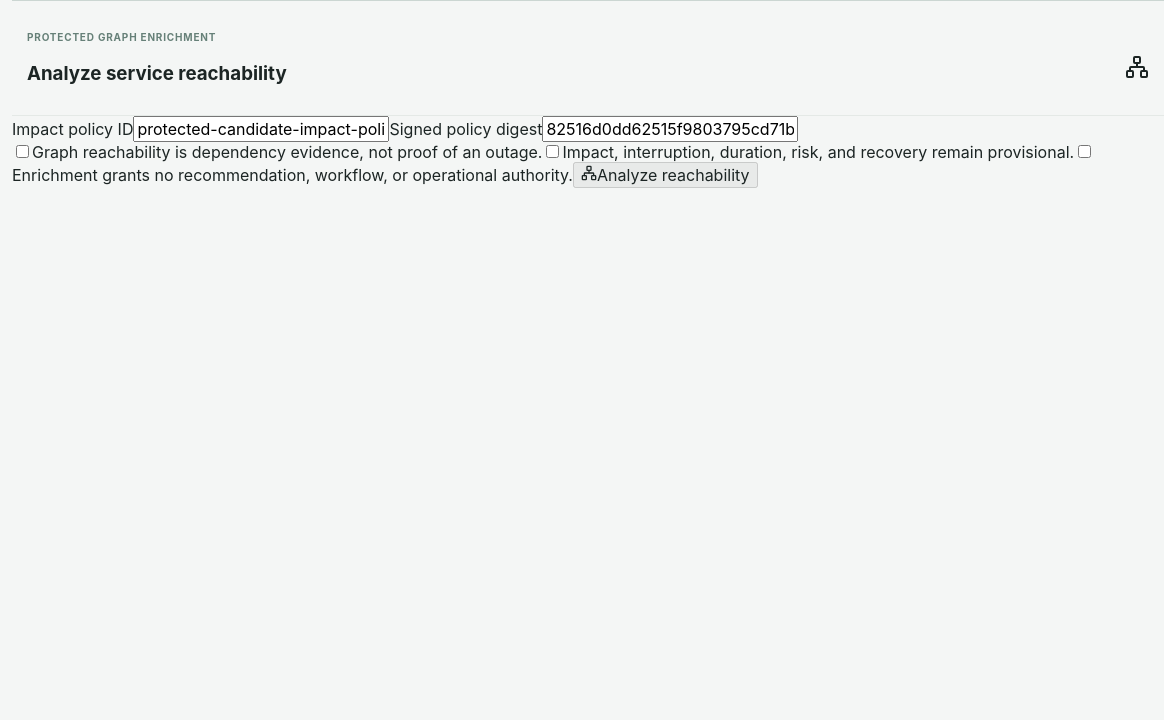
Test: ProtectedCandidateImpactPanel › returns only a minimized graph-impact manifest
The image size is (1164, 720).
Expected: the button "Analyze reachability" is disabled, x1=573 y1=162 x2=758 y2=188
Click the checkbox labelled "Graph reachability is dependency evidence, not proof of an outage.": (22, 152) x1=16 y1=145 x2=29 y2=158
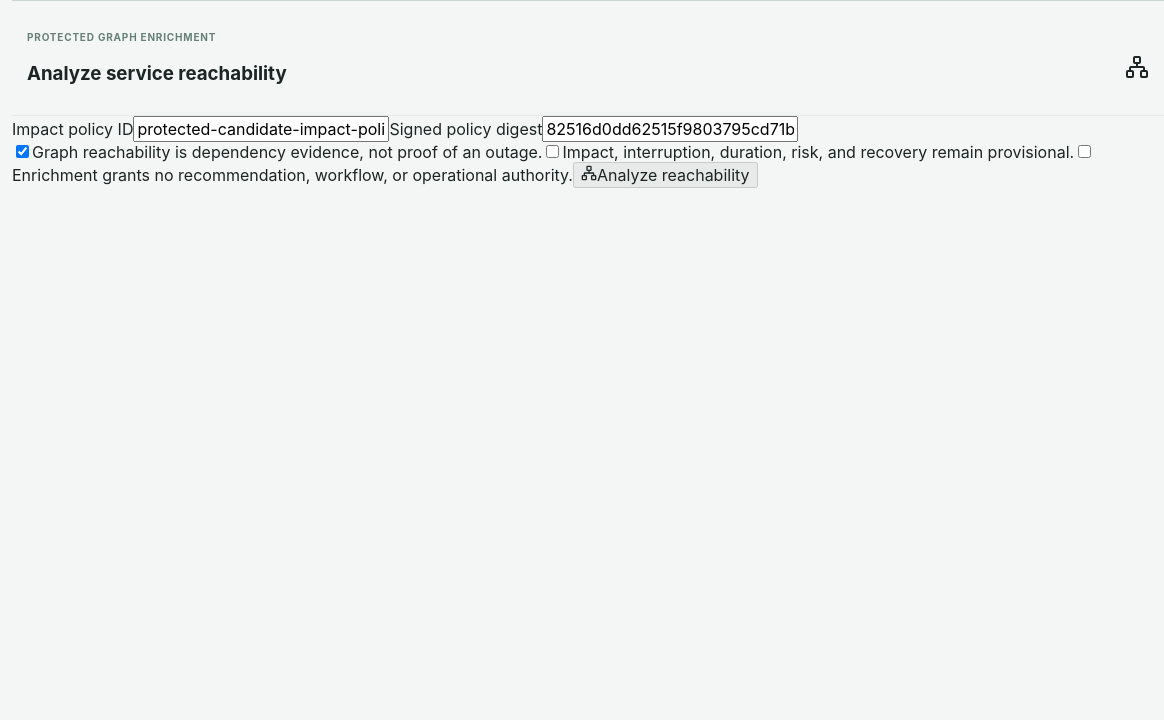
Click the checkbox labelled "Impact, interruption, duration, risk, and recovery remain provisional.": (553, 152) x1=546 y1=145 x2=559 y2=158
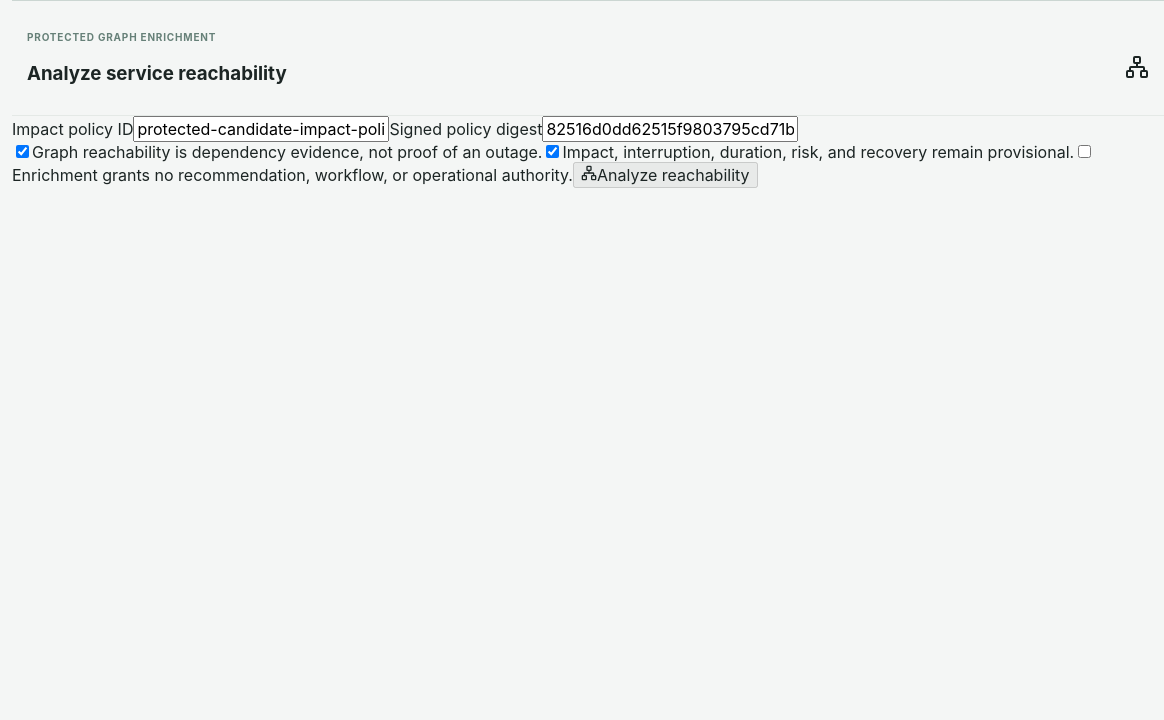
Click the checkbox labelled "Enrichment grants no recommendation, workflow, or operational authority.": (1085, 152) x1=1078 y1=145 x2=1091 y2=158
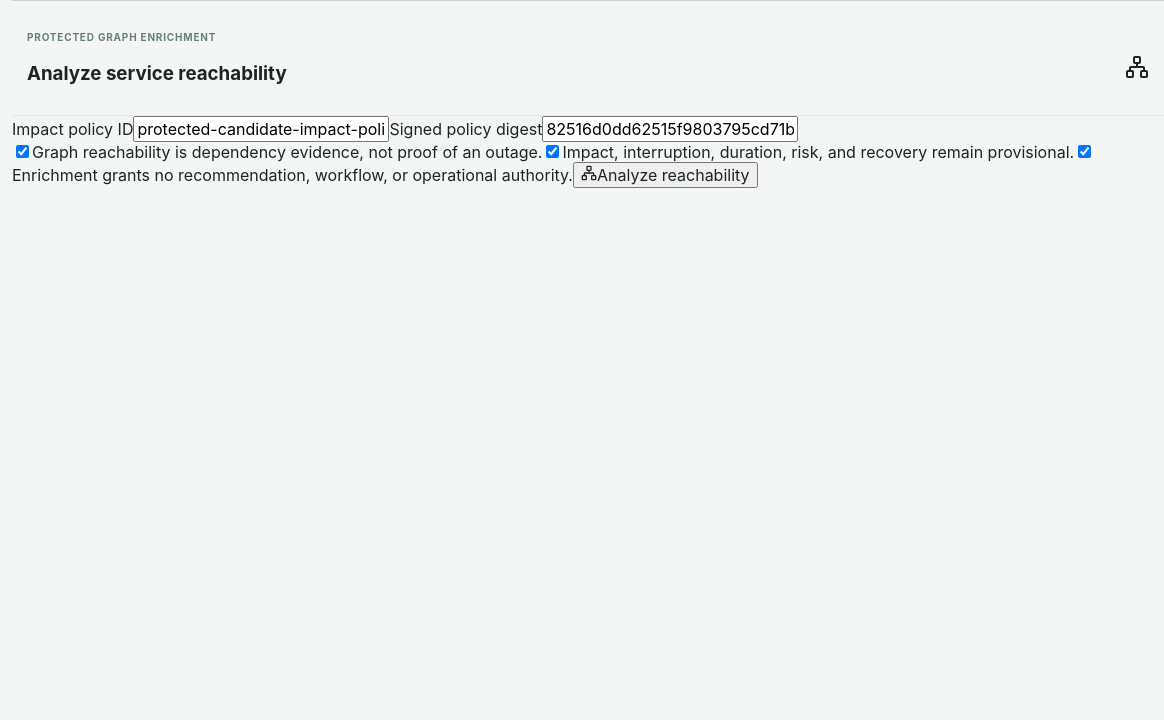
Expected: the button "Analyze reachability" is enabled
Click the button "Analyze reachability": (665, 175) x1=573 y1=162 x2=758 y2=188
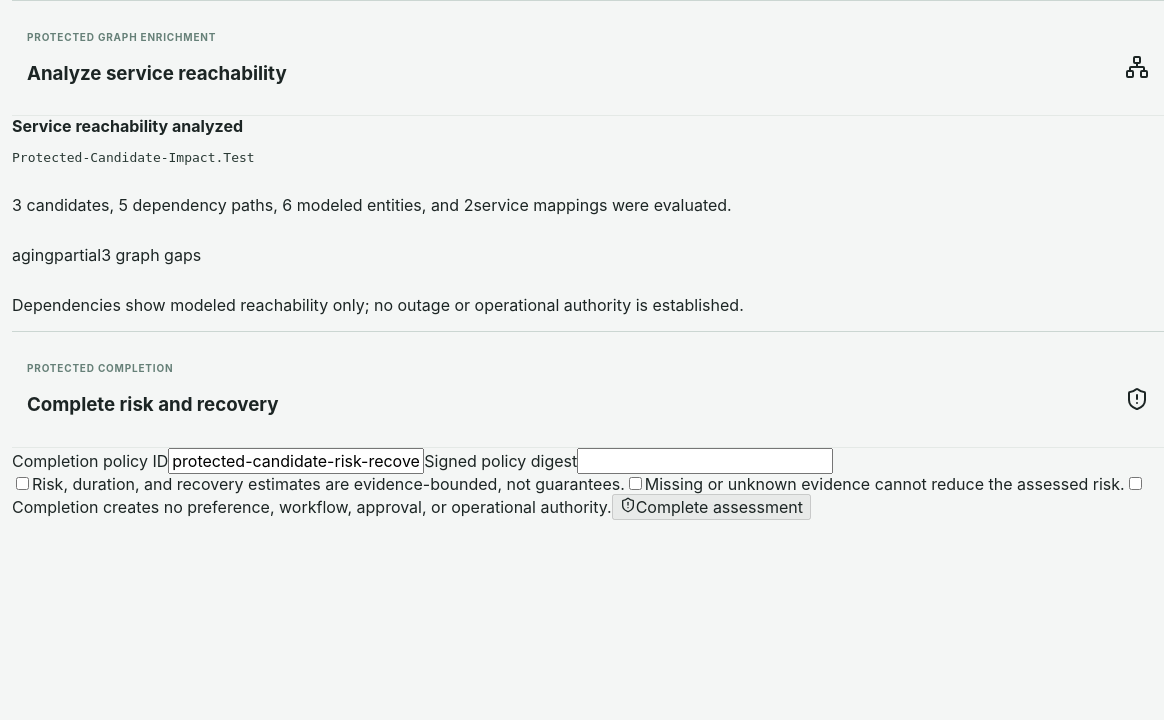
Expected: the text "Service reachability analyzed" is shown, x1=12 y1=116 x2=243 y2=136
Expected: the text "aging" is shown, x1=12 y1=245 x2=54 y2=265
Expected: the text "partial" is shown, x1=54 y1=245 x2=101 y2=265
